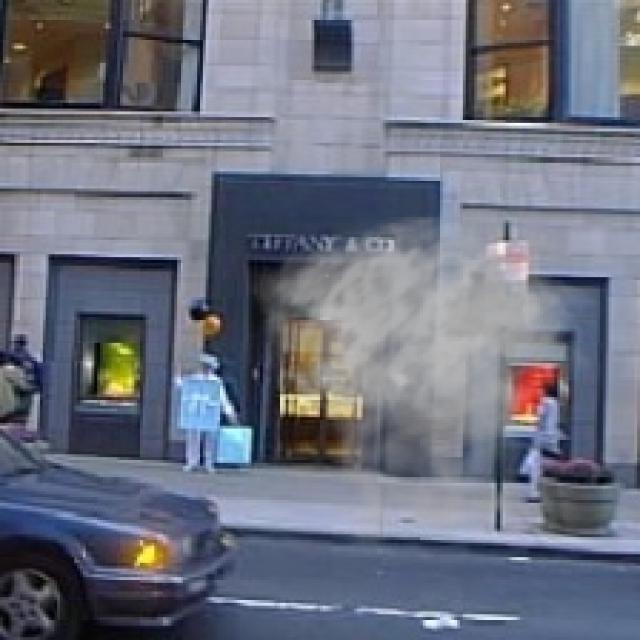Smoke: (248, 214, 600, 563)
